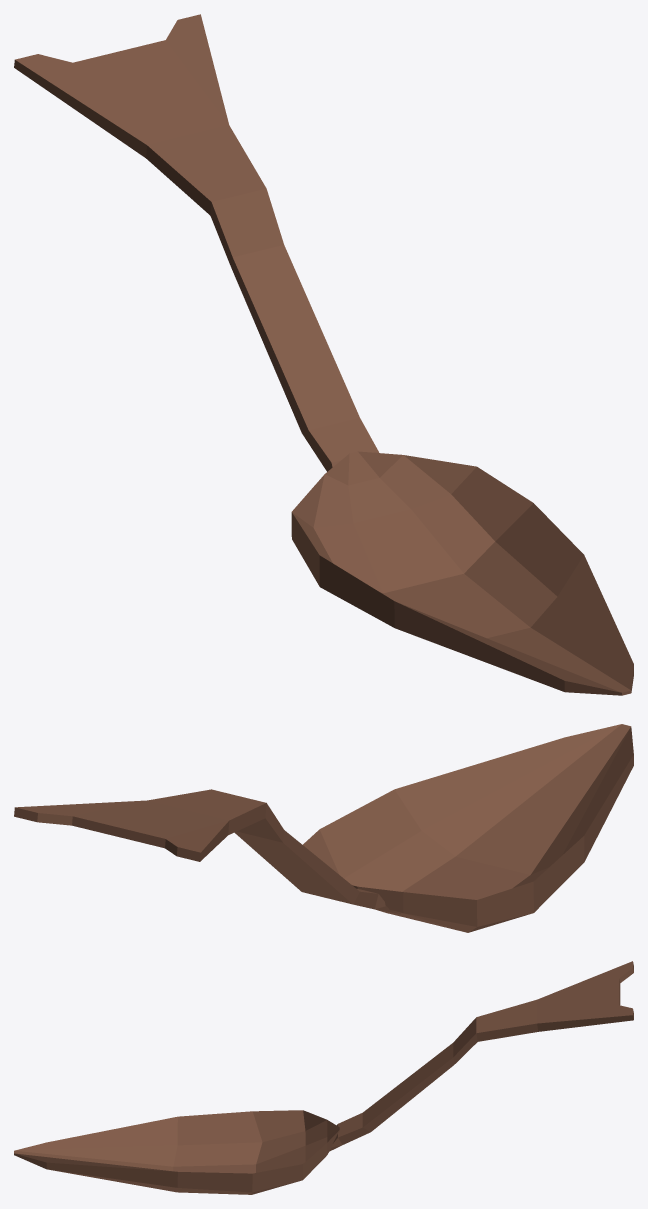
3 renders of one model, top to bottom at view 1: azimuth 30°, elevation 25°; view 2: azimuth 150°, elevation 25°; view 3: azimuth 270°, elevation 25°, orthographic. The views are drawn at different scales.
Parts seen in each view (by area): view 1: shao; view 2: shao; view 3: shao.
Part boxes in pixels (x1,y1,x2,y2): shao: [14, 14, 633, 695]; shao: [14, 724, 633, 932]; shao: [14, 961, 633, 1194].
Size of the model in its own units: 4.02 by 5.86 by 16.88.
